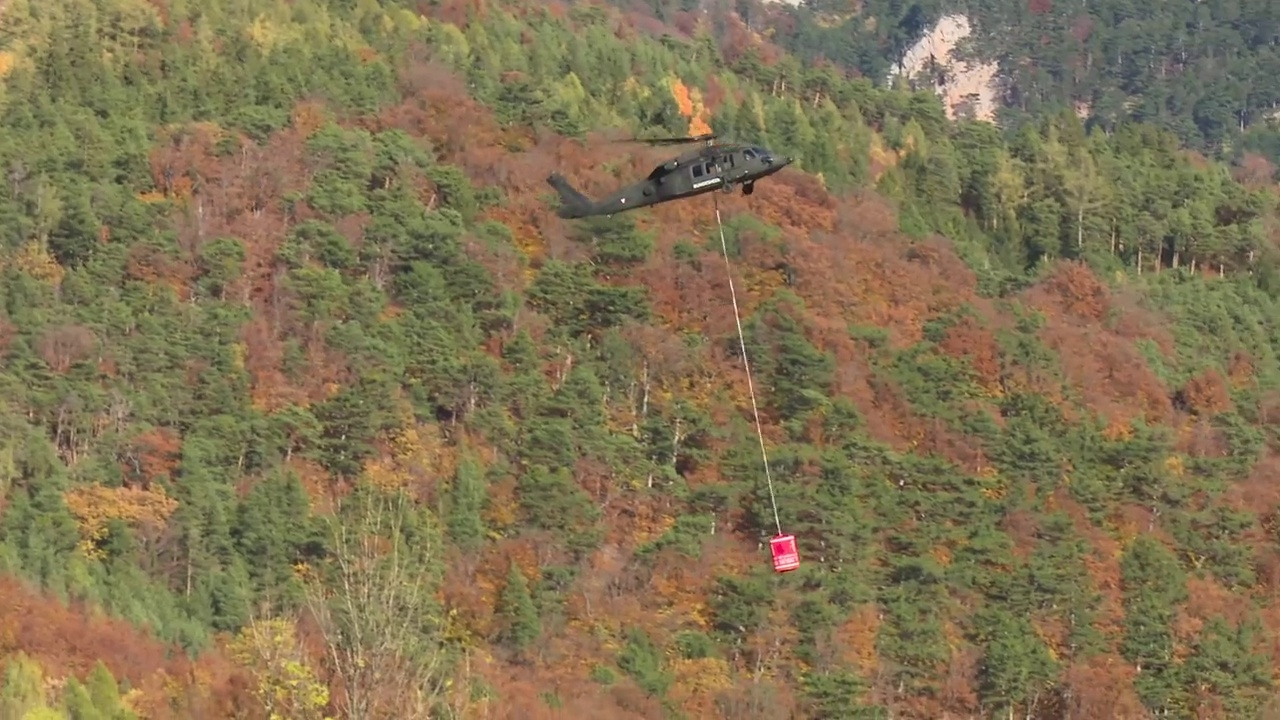heli: (546, 133, 795, 222)
